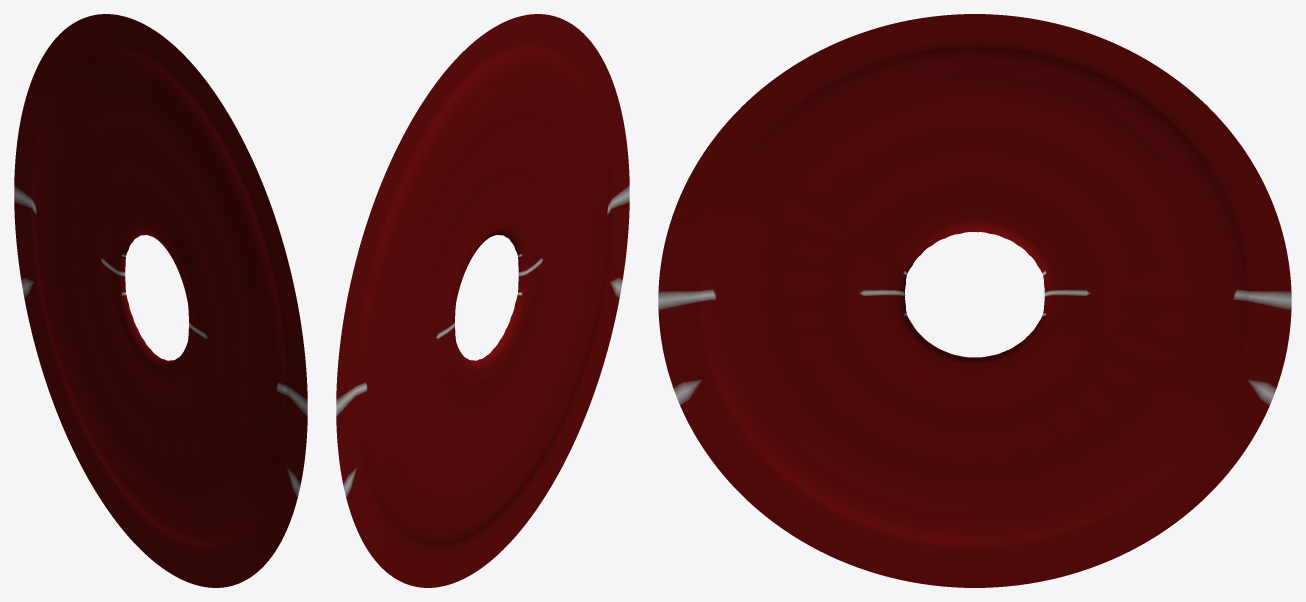
Rendered from S_Whole_Eye_Sclera_04.FBX.
The picture shows the model from 3 angles, left to right: view 1: azimuth 30°, elevation 25°; view 2: azimuth 150°, elevation 25°; view 3: azimuth 270°, elevation 25°; orthographic projection. The views are drawn at different scales.
Parts seen in each view (by area): view 1: WholeEye_Iris_Whole; view 2: WholeEye_Iris_Whole; view 3: WholeEye_Iris_Whole.
Part boxes in pixels (left/top/right/bottom): WholeEye_Iris_Whole: left=14, top=14, right=307, bottom=587; WholeEye_Iris_Whole: left=336, top=14, right=629, bottom=587; WholeEye_Iris_Whole: left=658, top=14, right=1291, bottom=587.
Bounding box in the file's own units: 0.7884 × 50.67 × 50.67.
